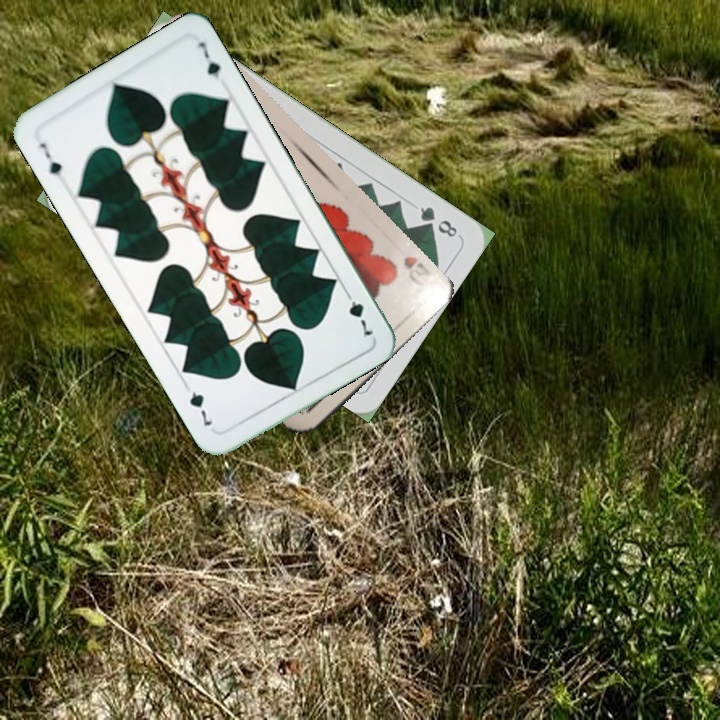G7: (340, 285, 376, 341), (34, 138, 64, 178)
G8: (416, 202, 460, 240)
H10: (399, 252, 437, 289)
